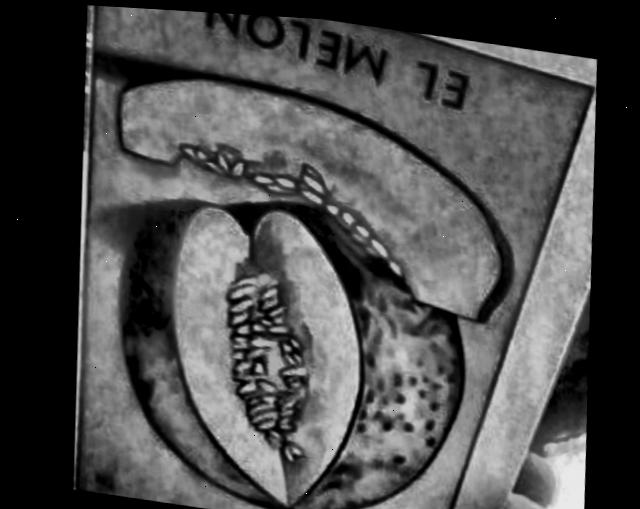El Melon: (73, 5, 592, 509)
